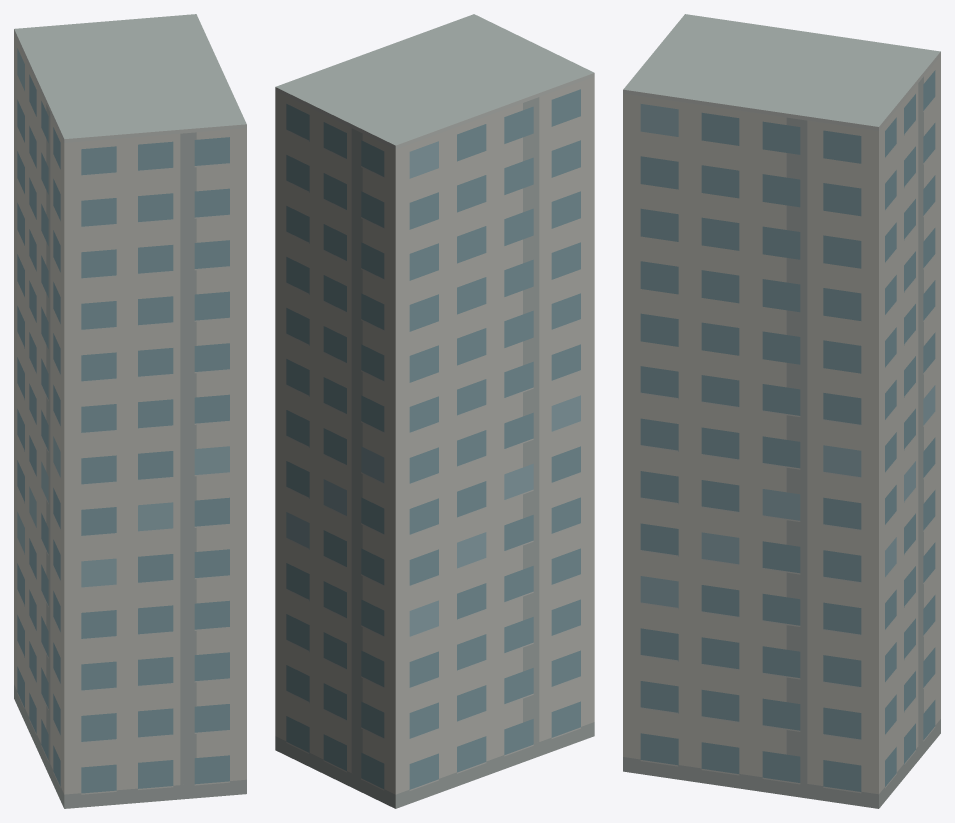
Rendered from residential-4e624e65-a4bc-437e-b873-b7890bd8b895.glb.
The picture shows the model from 3 angles, left to right: view 1: azimuth 30°, elevation 25°; view 2: azimuth 150°, elevation 25°; view 3: azimuth 270°, elevation 25°; orthographic projection. The views are drawn at different scales.
Parts seen in each view (by area): view 1: residential-4e624e65-a4bc-437e-b873-b7890bd8b895.tmp; view 2: residential-4e624e65-a4bc-437e-b873-b7890bd8b895.tmp; view 3: residential-4e624e65-a4bc-437e-b873-b7890bd8b895.tmp.
Boxes of the visible parts, box(x1,y1,x2,y2) form: residential-4e624e65-a4bc-437e-b873-b7890bd8b895.tmp: box(14, 14, 246, 808); residential-4e624e65-a4bc-437e-b873-b7890bd8b895.tmp: box(275, 14, 594, 808); residential-4e624e65-a4bc-437e-b873-b7890bd8b895.tmp: box(623, 14, 940, 808).
Bounding box in the file's own units: 14.58 × 41 × 17.32.
